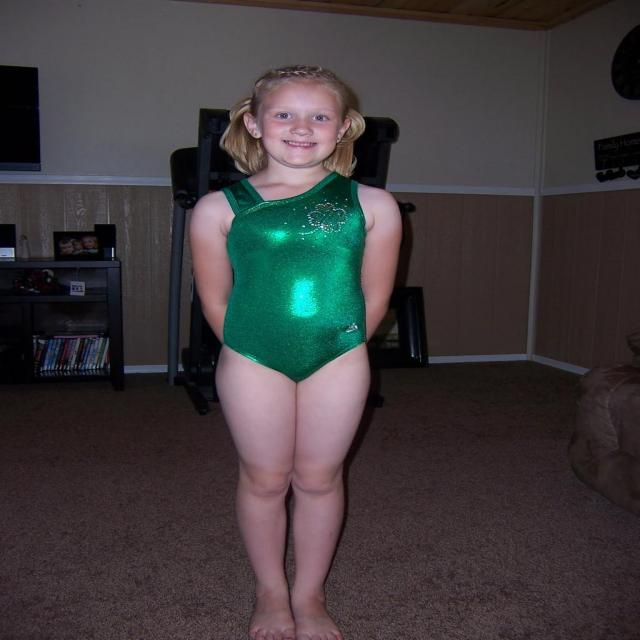nomask: (260, 79, 338, 167)
